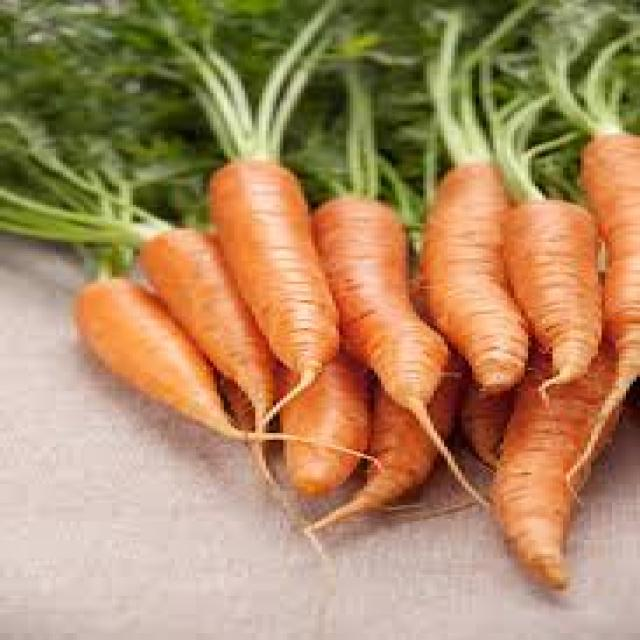Fresh_Carrot: (314, 197, 464, 478), (210, 160, 338, 389), (423, 164, 530, 393)
